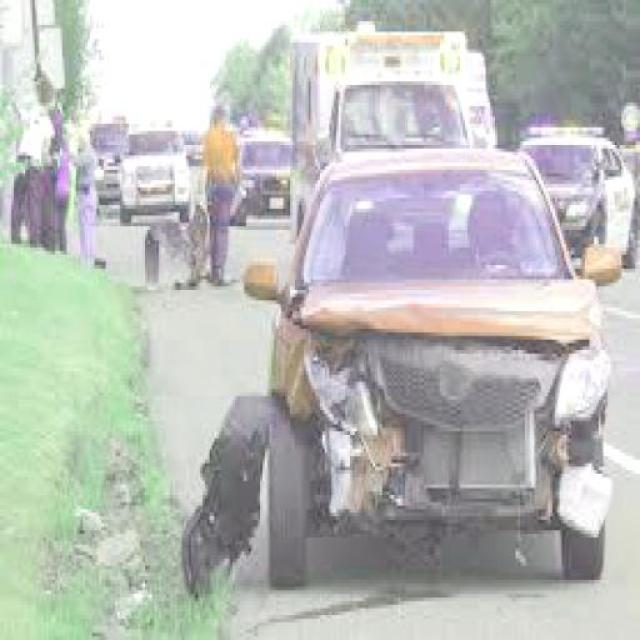Car-Damage: (184, 285, 613, 594)
